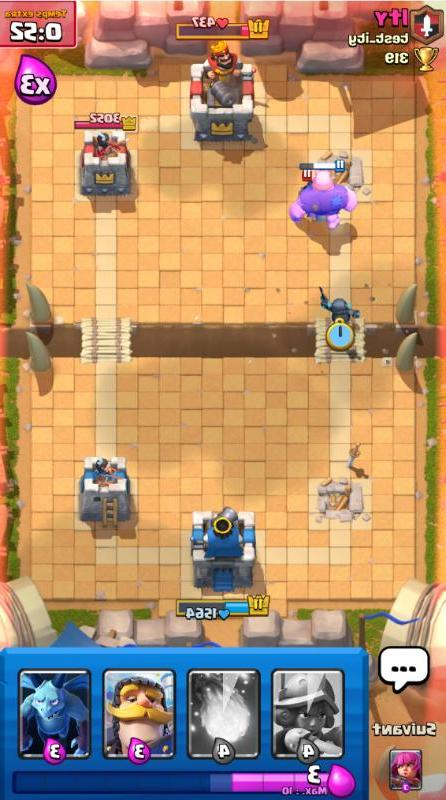geant: (289, 159, 358, 229)
mini_PEKKA: (318, 286, 360, 324), (297, 169, 315, 199)
